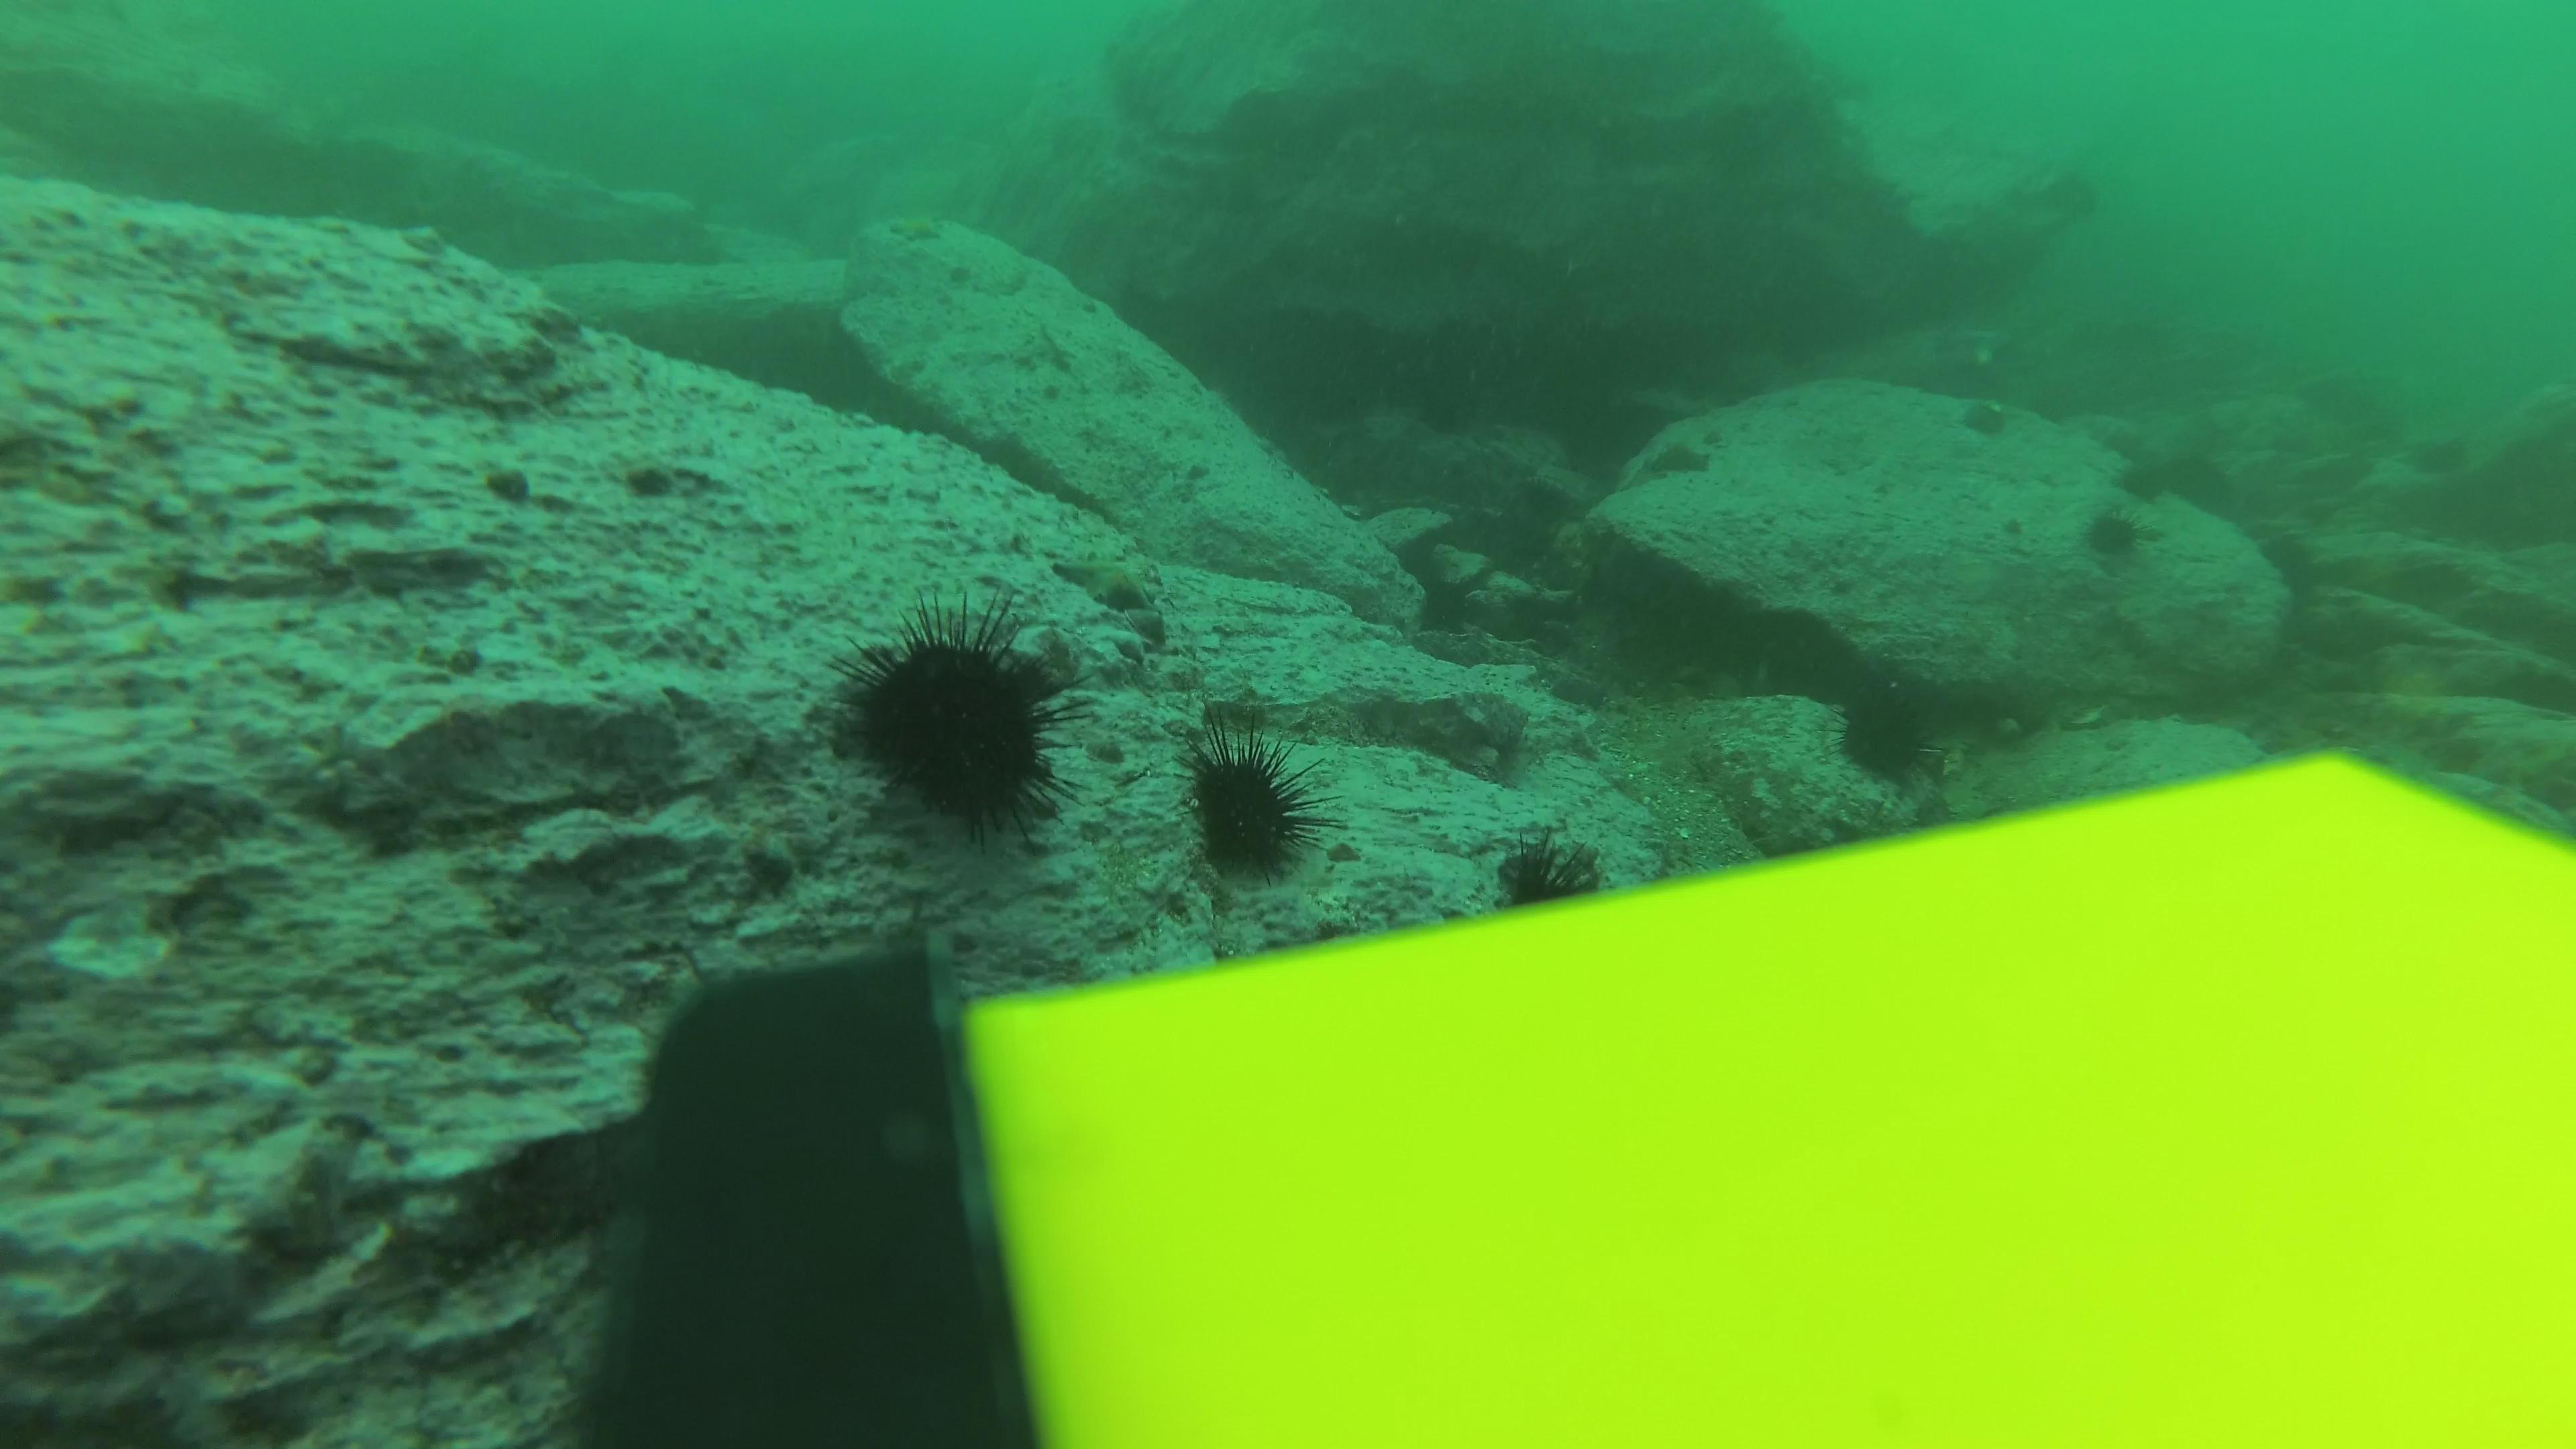urchin: (832, 594, 1085, 835), (1177, 720, 1341, 879), (1497, 837, 1622, 920), (1826, 683, 1936, 777), (2086, 499, 2155, 563), (2121, 453, 2181, 508), (1964, 402, 2013, 444)
